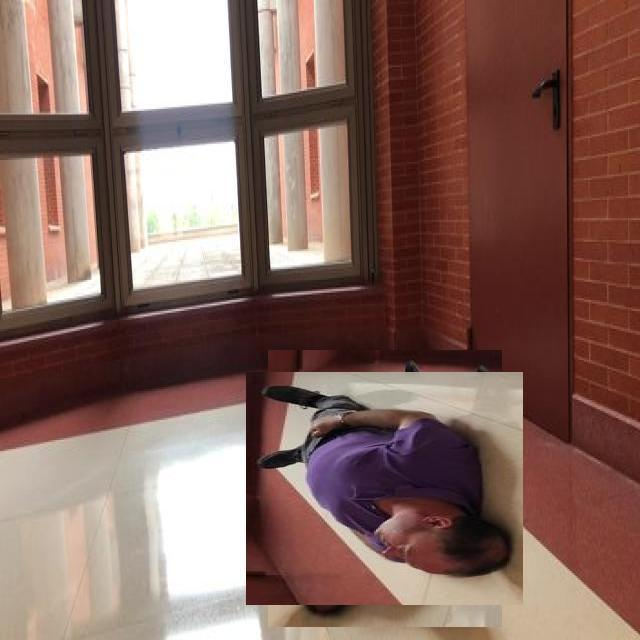Fall: (255, 373, 574, 604)
